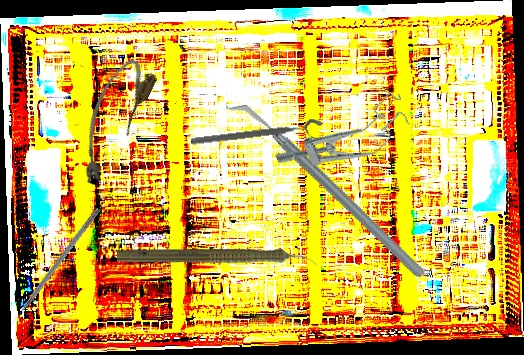Cannula: (63, 53, 161, 191)
Chopper: (225, 58, 428, 321)
Fixation Ring: (190, 118, 324, 156)
Handpiece: (117, 246, 317, 270)
Hook Surgical: (7, 206, 101, 327)
Speculum: (270, 89, 418, 191)
